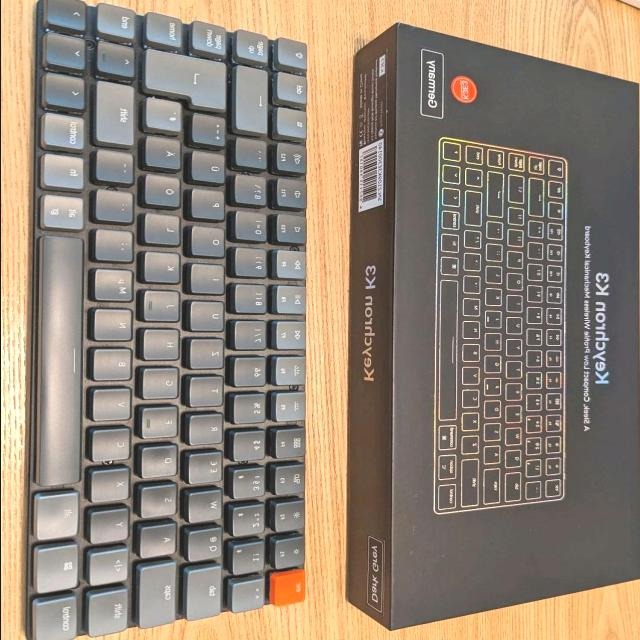0: (236, 212, 270, 244)
1: (233, 543, 267, 577)
2: (233, 506, 267, 539)
3: (234, 469, 268, 501)
4: (234, 432, 268, 463)
5: (234, 394, 268, 426)
6: (232, 357, 266, 389)
7: (235, 322, 268, 352)
8: (235, 285, 269, 317)
9: (235, 249, 269, 280)
a: (141, 525, 181, 560)
accent: (236, 140, 270, 172)
ae: (146, 138, 184, 172)
alt-left: (36, 492, 82, 543)
altgr-right: (42, 196, 87, 232)
b: (93, 349, 135, 383)
c: (93, 430, 134, 464)
caret: (233, 581, 267, 616)
comma: (95, 231, 137, 265)
d: (142, 447, 181, 481)
del: (236, 68, 271, 137)
e: (187, 451, 223, 485)
enter: (145, 49, 231, 113)
f: (142, 408, 182, 442)
g: (144, 370, 182, 403)
h: (144, 330, 182, 364)
hash: (146, 100, 184, 135)
i: (191, 265, 227, 297)
j: (144, 293, 183, 325)
k: (145, 253, 183, 287)
keyboard: (23, 0, 313, 640), (430, 133, 574, 521)
l: (145, 215, 183, 248)
less: (90, 550, 132, 588)
m: (95, 271, 137, 305)
minus: (97, 151, 137, 187)
n: (94, 310, 136, 344)
o: (192, 227, 228, 260)
oe: (146, 176, 184, 210)
p: (192, 190, 228, 222)
plus: (193, 116, 229, 149)
point: (97, 190, 137, 226)
q: (189, 529, 225, 565)
r: (190, 415, 226, 447)
s: (141, 486, 180, 521)
shift-left: (88, 590, 132, 640)
shift-lock: (139, 564, 179, 632)
shift-right: (97, 83, 138, 149)
space: (38, 235, 87, 491)
ss: (235, 176, 269, 208)
strg-left: (35, 597, 81, 640)
strg-right: (44, 114, 88, 152)
t: (190, 378, 226, 409)
tab: (188, 567, 225, 623)
u: (191, 302, 228, 334)
ue: (191, 152, 228, 186)
v: (93, 389, 135, 423)
w: (189, 492, 226, 526)
x: (91, 469, 133, 505)
y: (91, 510, 133, 547)
z: (191, 340, 227, 372)
